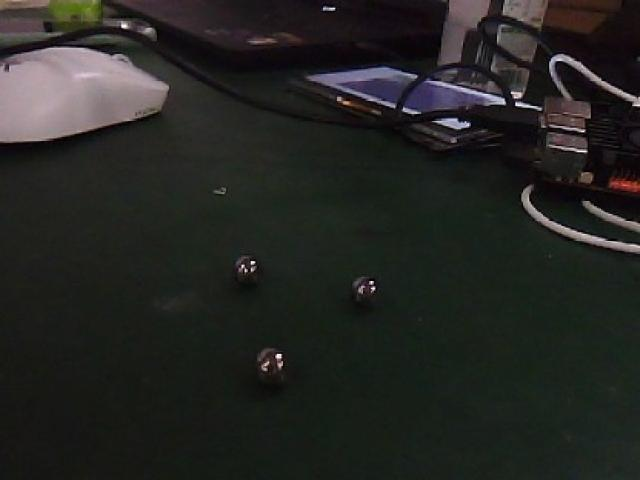steel-ball: (336, 255, 392, 314), (238, 334, 292, 394), (215, 238, 268, 294)
